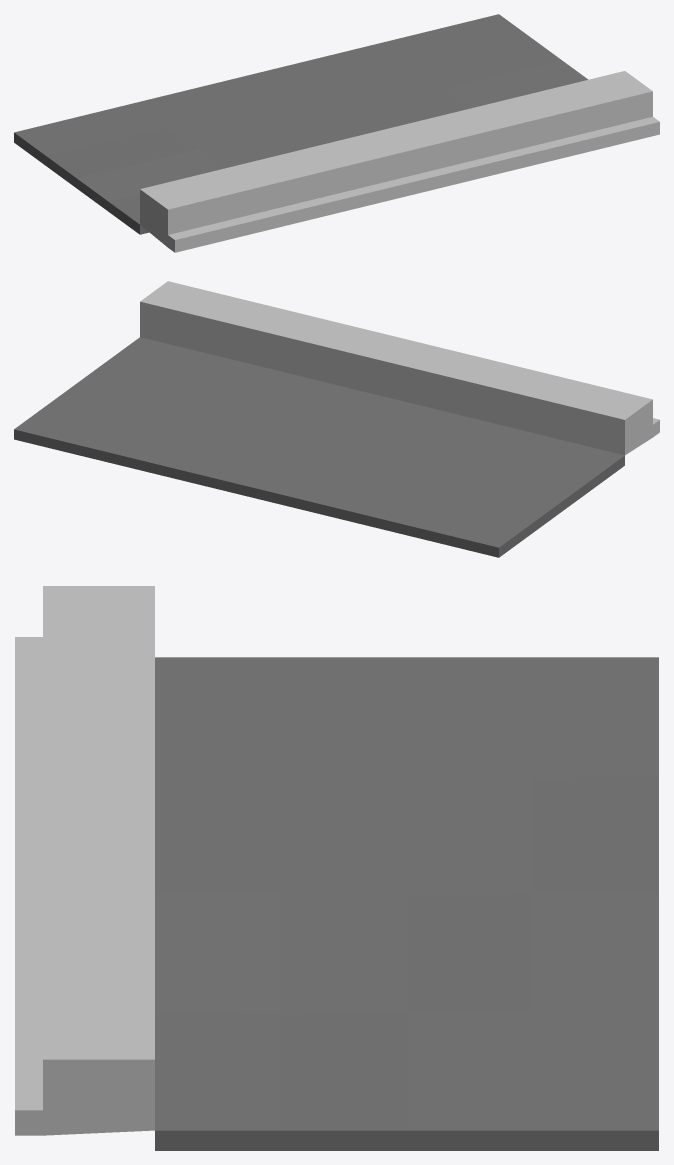
File: RoofFlat.glb
3 renders of one model, top to bottom at view 1: azimuth 30°, elevation 25°; view 2: azimuth 150°, elevation 25°; view 3: azimuth 270°, elevation 25°, orthographic. The views are drawn at different scales.
Parts seen in each view (by area): view 1: RoofFlat; view 2: RoofFlat; view 3: RoofFlat.
Boxes of the visible parts, x1=… form: RoofFlat: x1=14, y1=14, x2=659, y2=252; RoofFlat: x1=14, y1=281, x2=659, y2=557; RoofFlat: x1=15, y1=586, x2=658, y2=1150.
Size of the model in its own units: 2 by 0.1799 by 1.15.
1 material, 1 textured.
